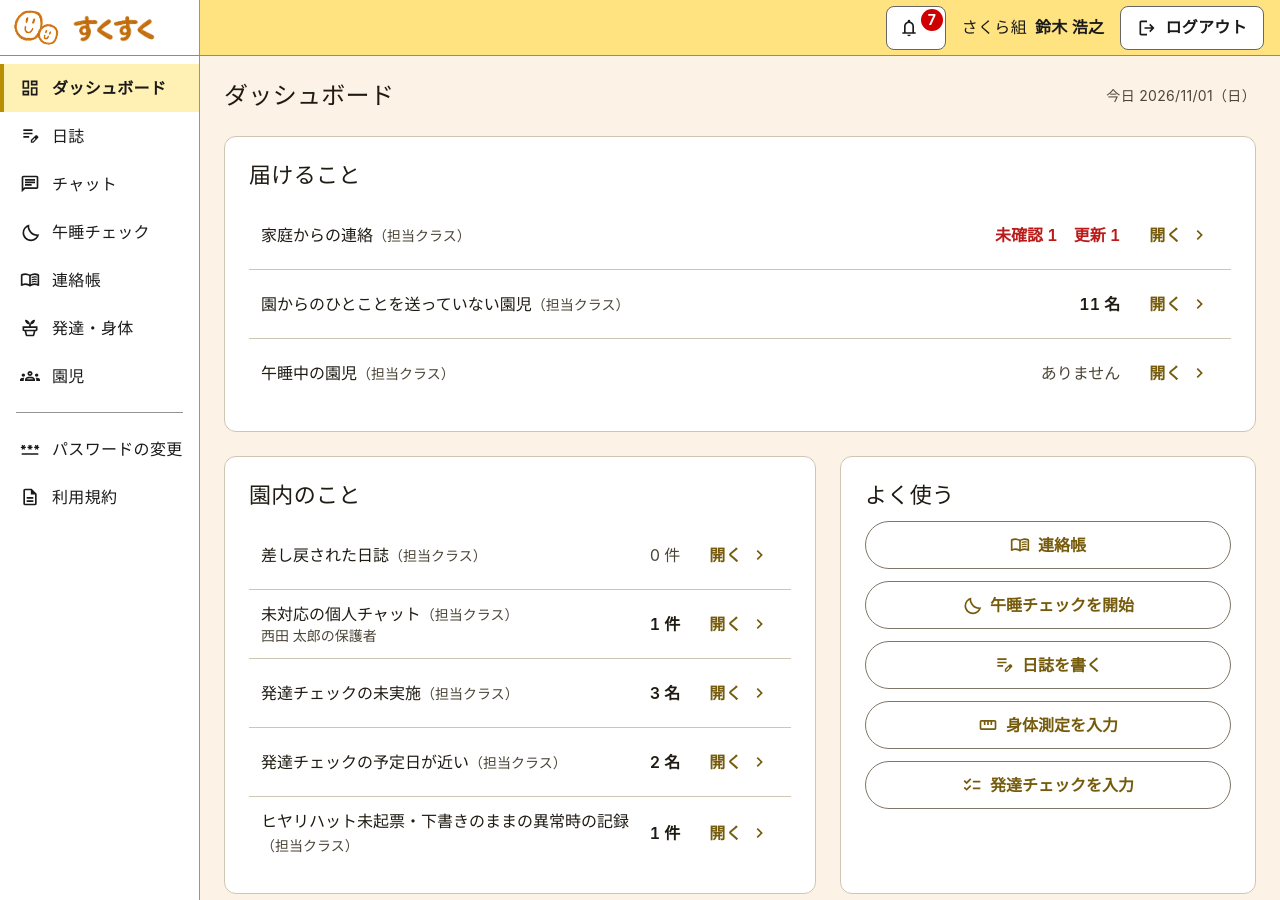
Test case: 職員のメニューに「パスワードの変更」「利用規約」を置く（GitHub Issue #178 の 3） › サイドナビから、パスワード変更画面（任意）と利用規約の参照へ移れる
The width and height of the screenshot is (1280, 900).
Step 1. Click the link "パスワードの変更" → (101, 449), box [20,439,183,459]
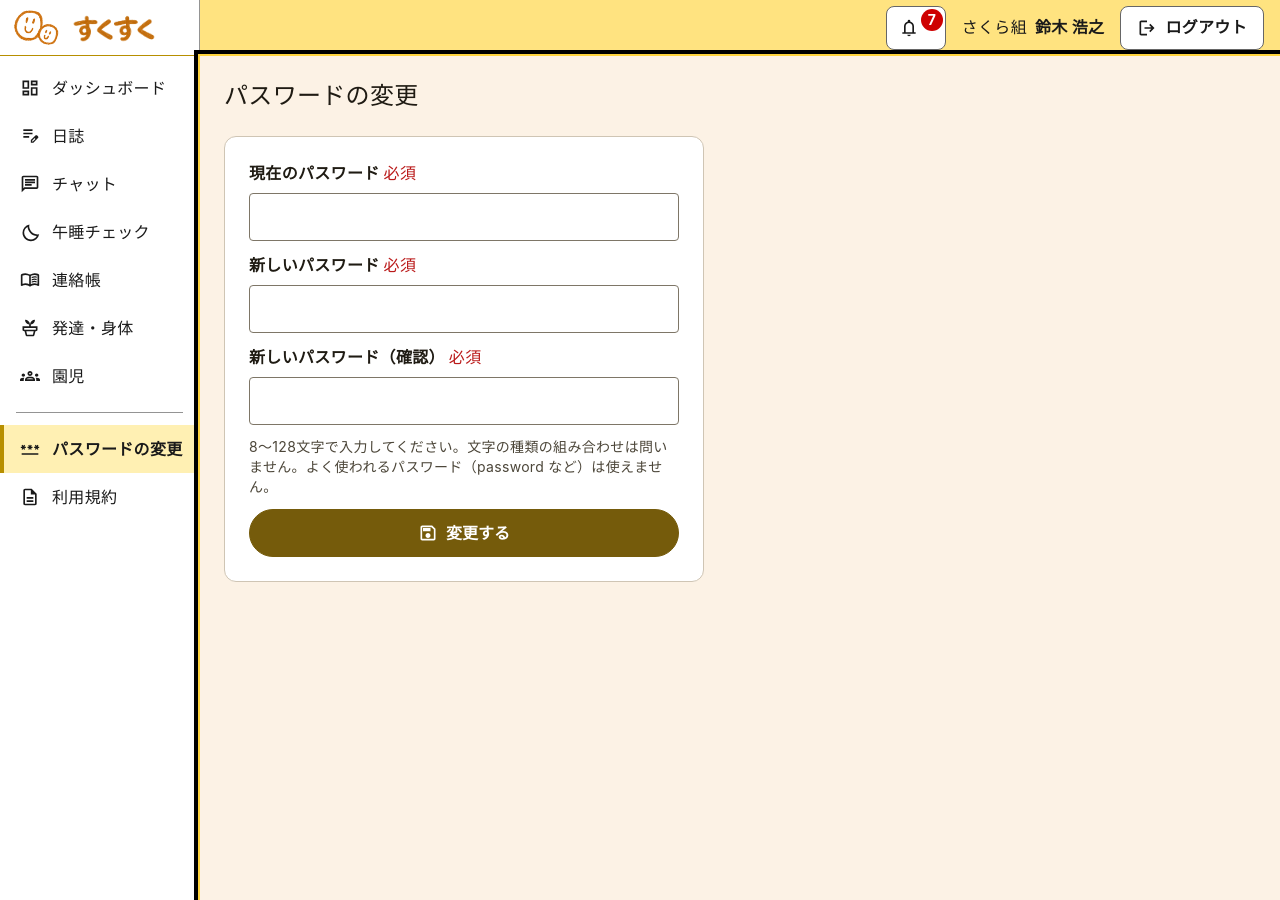
expect the heading "パスワードの変更" is shown: met, box [224,80,419,112]
Step 2. Click the link "利用規約" → (69, 497), box [20,487,117,507]
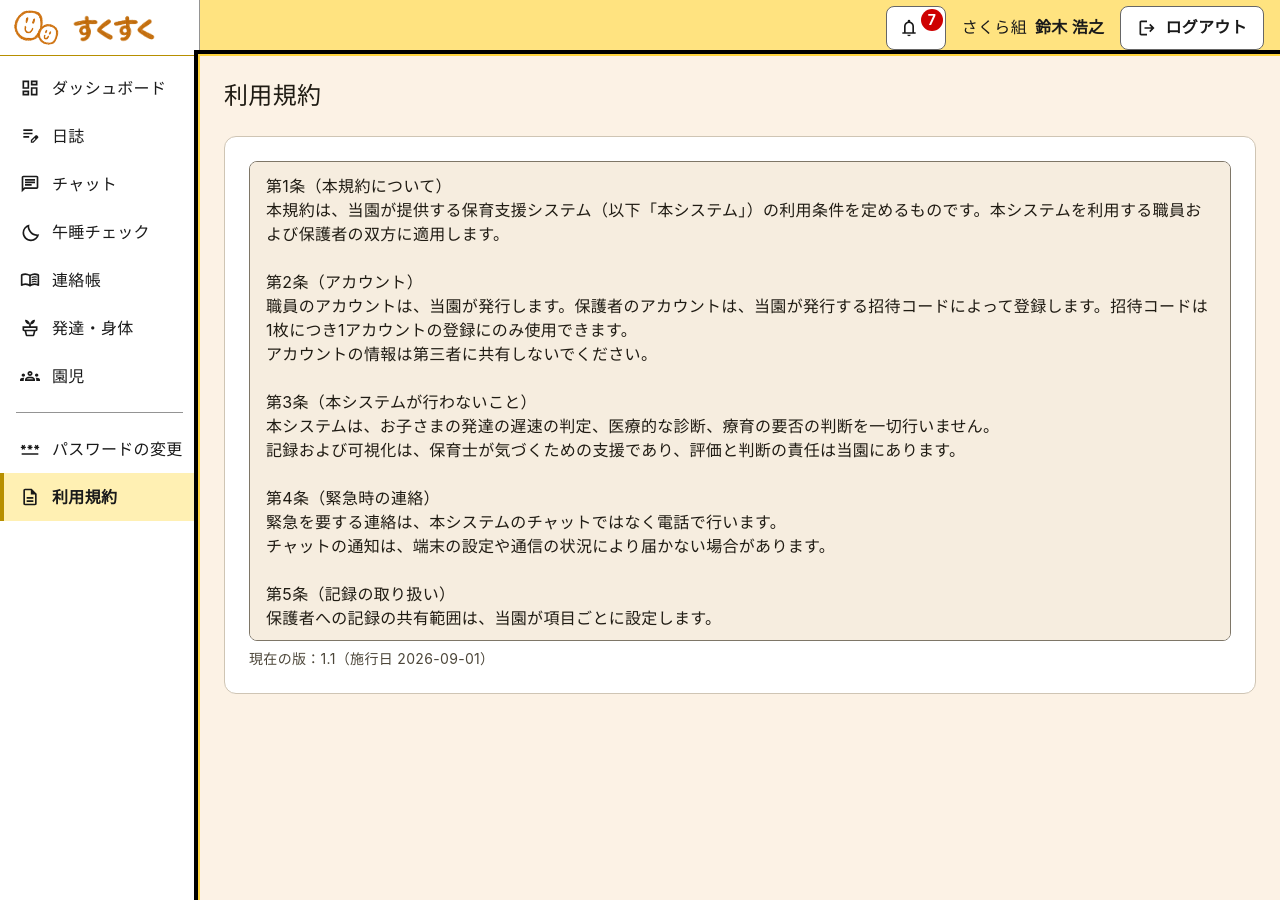
expect the heading "利用規約" is shown: met, box [224,80,321,112]
